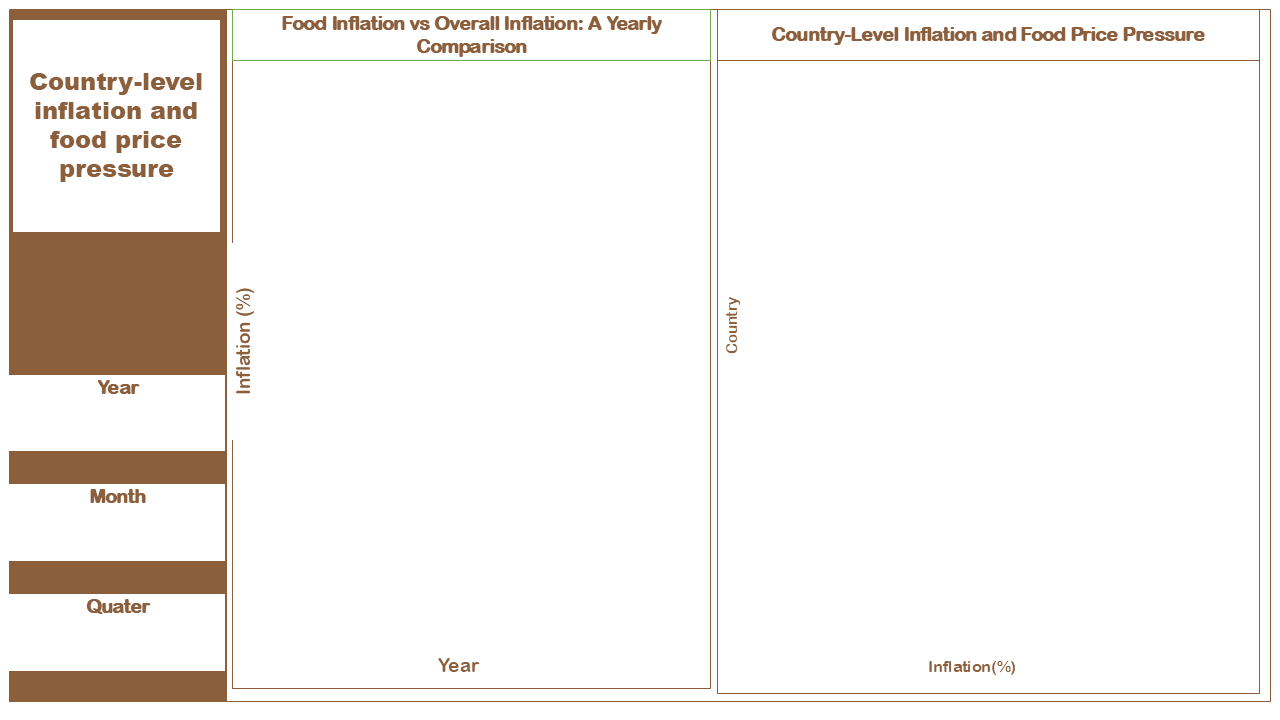

Layout of this report page (visuals, bound fields, positions):
{"tool":"powerbi","page":{"name":"Page 3","canvas":[1280,720],"ordinal":2},"visuals":[{"type":"areaChart","title":"Food Inflation vs Overall Inflation: A Yearly Comparison","fields":{"Category":["Calendar.Year"],"Y":["kpi_1.Inflation Rate %","kpi_1.Food Inflation %"]},"box":[265.1,56.9,435.9,592.1],"z":0},{"type":"barChart","title":"Country-Level Inflation and Food Price Pressure","fields":{"Category":["Dim_Country.Country"],"Y":["kpi_1.Inflation Rate %","kpi_1.Food Inflation %"]},"box":[745,56.9,510.7,592.1],"z":1000},{"type":"slicer","fields":{"Values":["Calendar.Year"]},"box":[6.5,390.4,218,71.6],"z":2000},{"type":"slicer","fields":{"Values":["Calendar.Month"]},"box":[17.9,497.7,206.6,53.7],"z":3000},{"type":"slicer","fields":{"Values":["Calendar.Quarter"]},"box":[11.4,613.2,206.6,53.7],"z":4000}]}

Visuals, with their boxes in screenshot pixels (x1, y1, x2, y2), scaled from the page's 1280x720 canvas onto the 1280x720 screenshot:
"Food Inflation vs Overall Inflation: A Yearly Comparison" areaChart: [left=265, top=57, right=701, bottom=649]
"Country-Level Inflation and Food Price Pressure" barChart: [left=745, top=57, right=1256, bottom=649]
slicer - Calendar.Year: [left=6, top=390, right=224, bottom=462]
slicer - Calendar.Month: [left=18, top=498, right=224, bottom=551]
slicer - Calendar.Quarter: [left=11, top=613, right=218, bottom=667]
